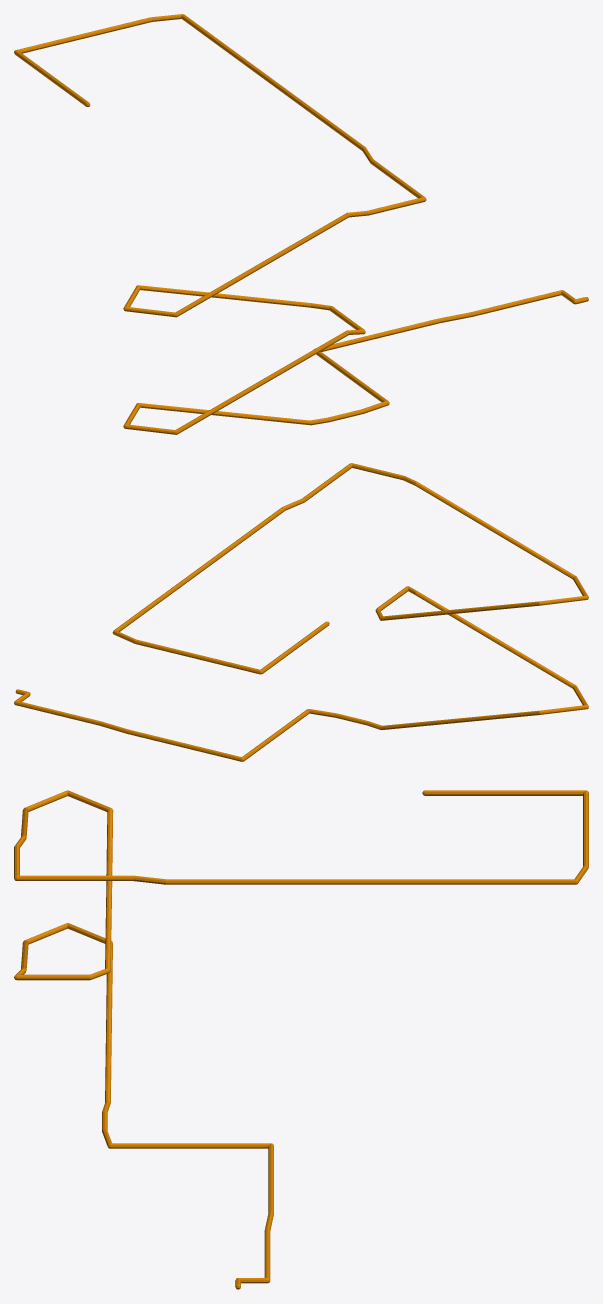
The picture shows the model from 3 angles, top to bottom: view 1: azimuth 30°, elevation 25°; view 2: azimuth 150°, elevation 25°; view 3: azimuth 270°, elevation 25°; orthographic projection. The views are drawn at different scales.
Size of the model in its own units: 2406 by 1020 by 1966.
